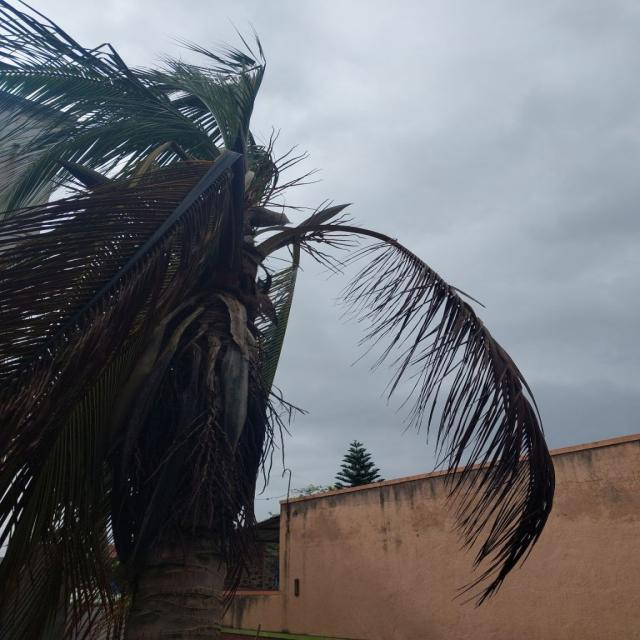bud root dropping: (2, 1, 555, 639)
